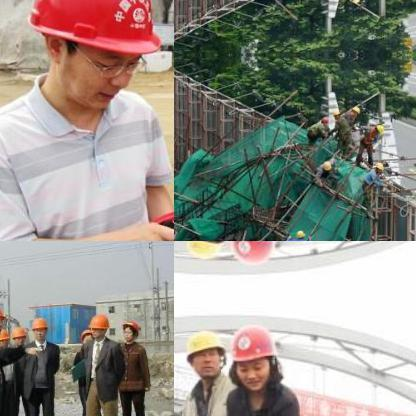Helmet: (19, 0, 158, 128), (232, 320, 278, 386), (181, 324, 223, 380), (231, 241, 280, 268), (181, 241, 224, 262), (86, 312, 110, 342), (117, 316, 141, 344), (27, 314, 48, 344), (8, 324, 26, 348), (78, 328, 92, 348), (369, 158, 385, 174), (368, 120, 384, 134), (328, 106, 344, 120), (348, 102, 362, 118), (318, 158, 332, 172), (294, 228, 306, 240), (316, 113, 328, 125), (348, 0, 362, 5)
